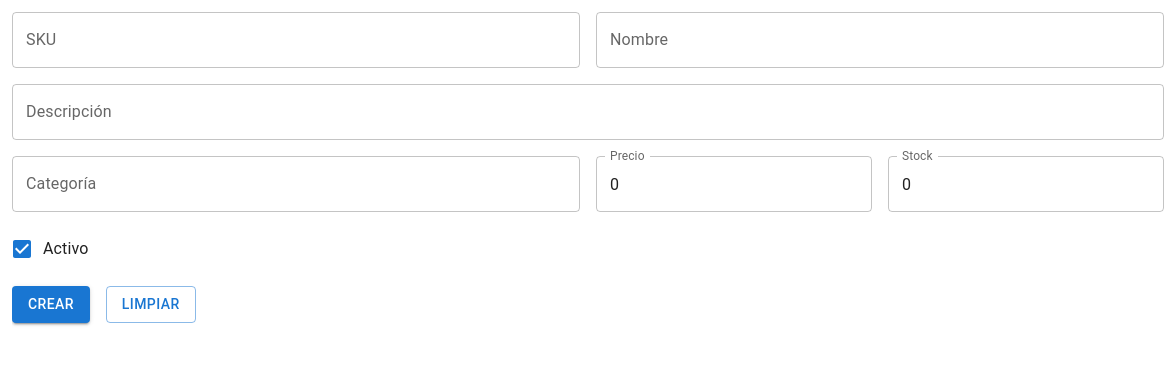
ProductForm — validación de formato › muestra error de formato para descripción con caracteres inválidos
Type "SKU-001" into the field labelled "SKU" at (296, 40), box [12, 12, 580, 68]
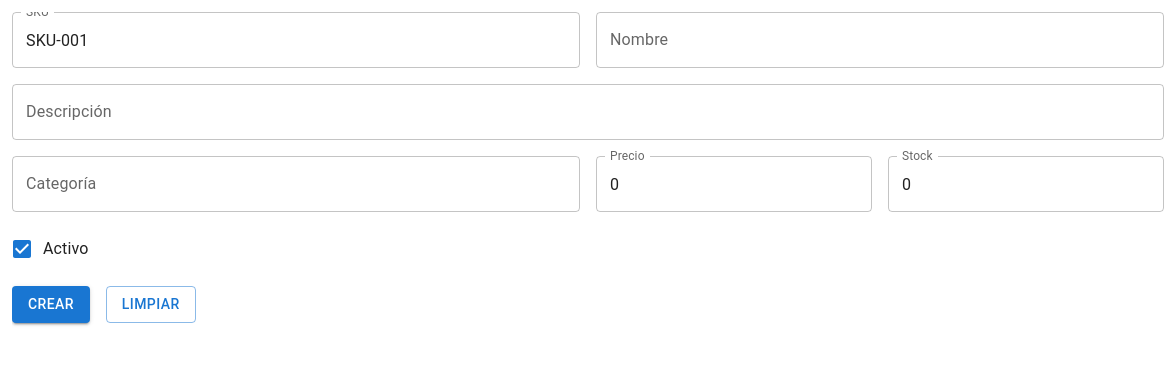
Type "Laptop Pro" into the field labelled "Nombre" at (880, 40), box [596, 12, 1164, 68]
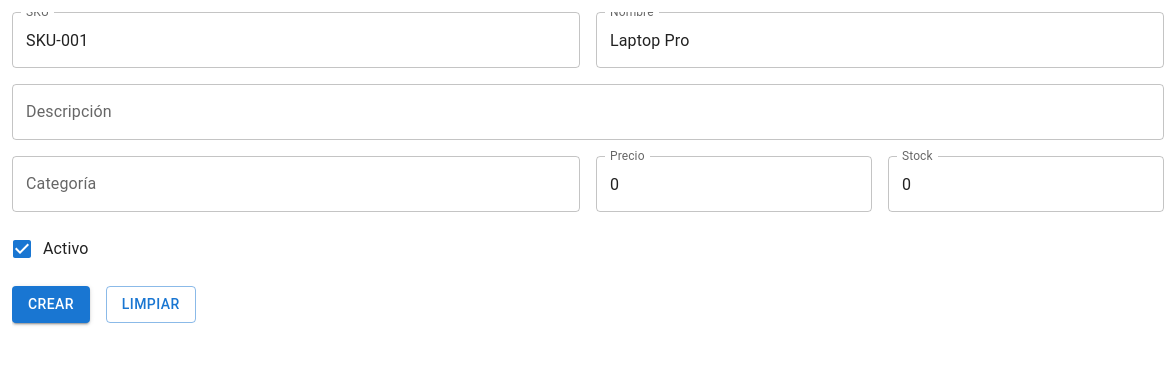
Type "Technology" into the field labelled "Categoría" at (296, 184), box [12, 156, 580, 212]
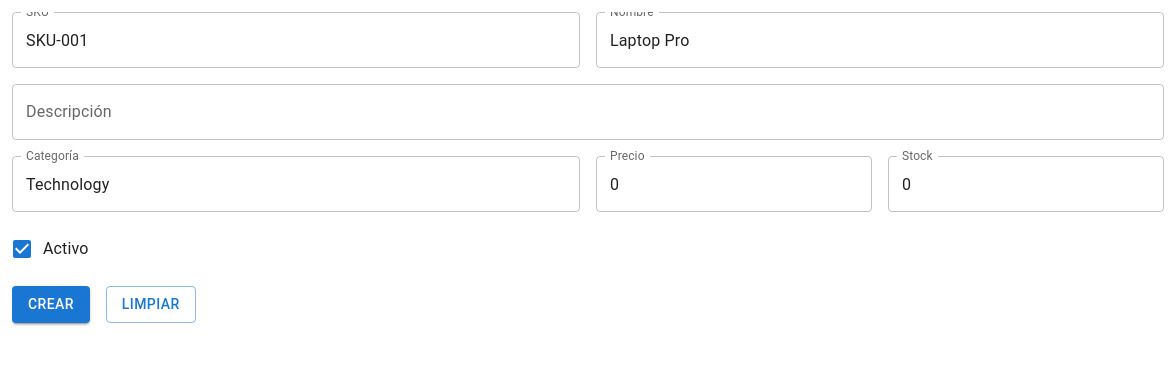
Type "Invalid@Description#2024" into the field labelled "Descripción" at (588, 112), box [12, 84, 1164, 140]
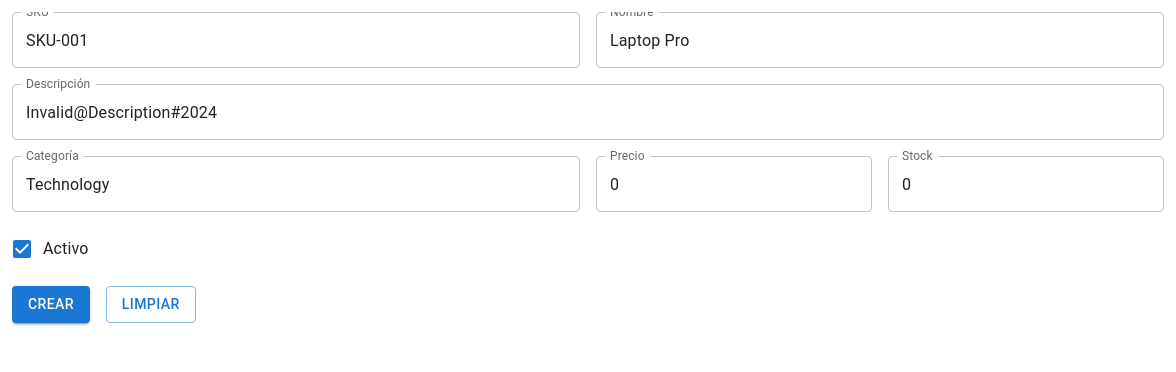
Click the button "Crear" at (51, 304), box [12, 286, 90, 322]
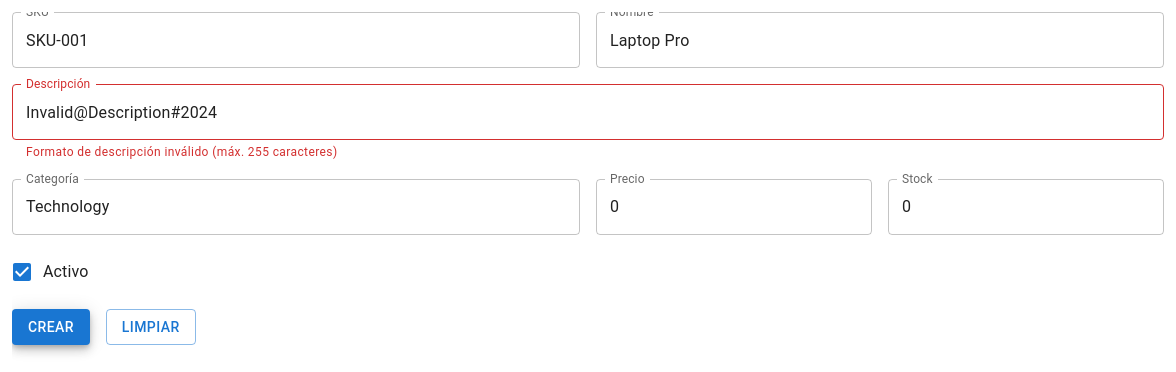
Now the text "Formato de descripción inválido (máx. 255 caracteres)" is shown, box [26, 145, 338, 159]
